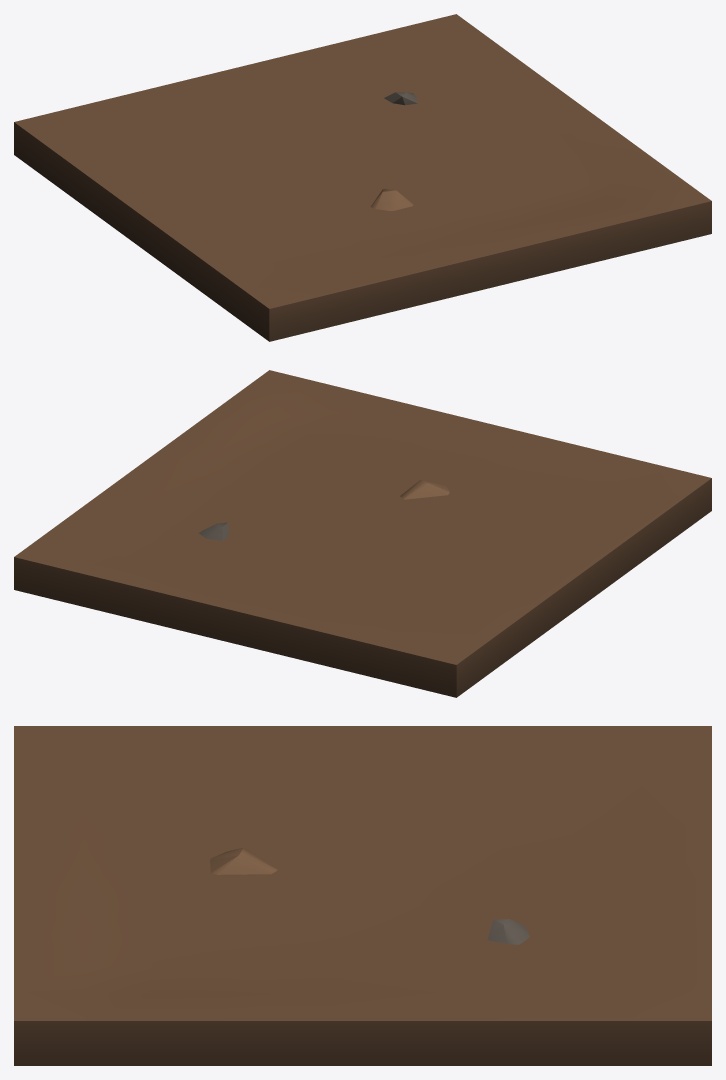
The model's file is floor_earth_small_B.glb.
The picture shows the model from 3 angles, top to bottom: view 1: azimuth 30°, elevation 25°; view 2: azimuth 150°, elevation 25°; view 3: azimuth 270°, elevation 25°; orthographic projection. The views are drawn at different scales.
Visible parts, largest first — view 1: Item; view 2: Item; view 3: Item.
Part boxes in pixels (x1,y1,x2,y2): Item: (14,14,711,341); Item: (14,370,711,697); Item: (14,726,711,1065).
Bounding box in the file's own units: 2 × 0.1796 × 2.
Materials: 1 (1 with a texture image).
